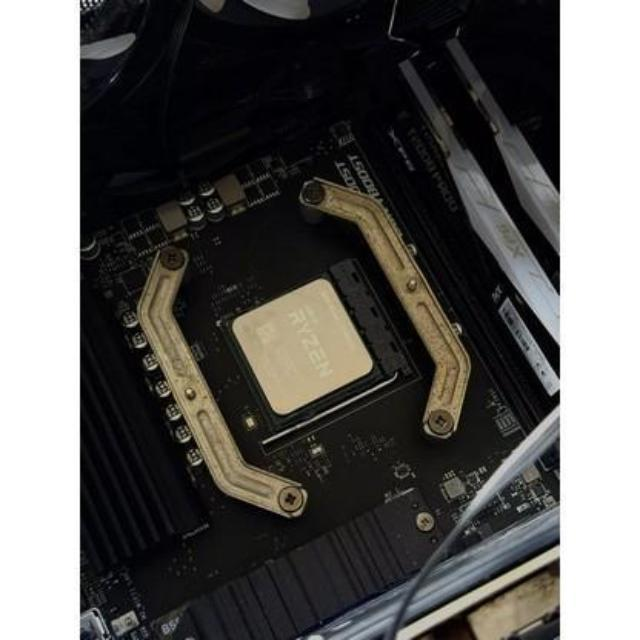CPU: (230, 278, 376, 416)
